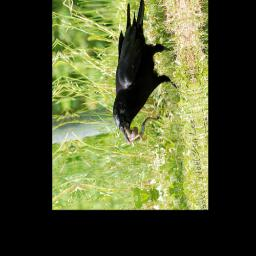Crow: (98, 0, 185, 147)
